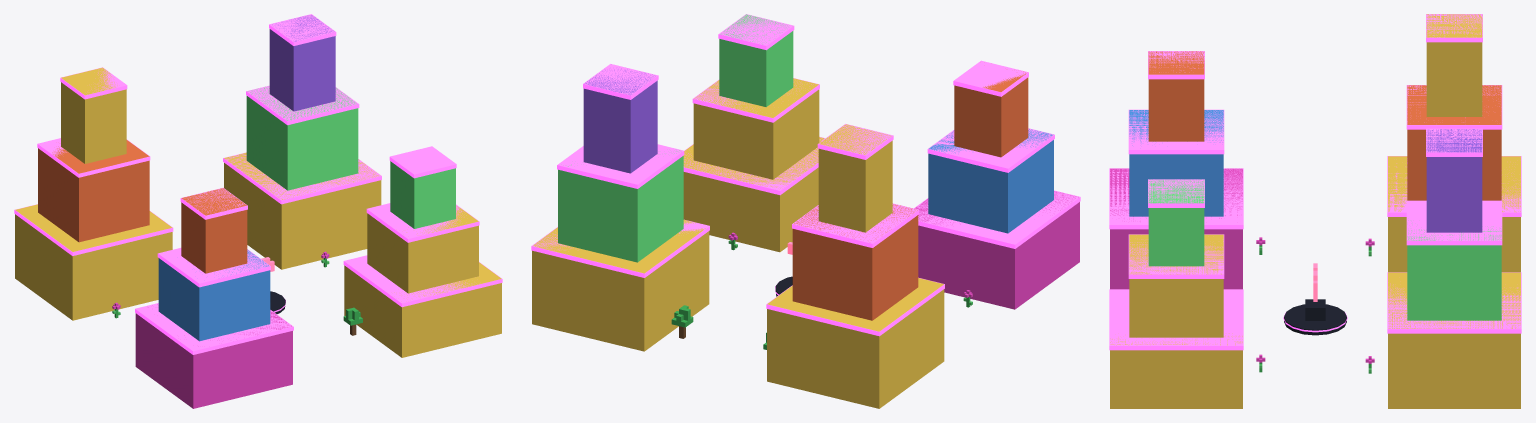
3 views of the same model, side by side, from view 1: azimuth 30°, elevation 25°; view 2: azimuth 150°, elevation 25°; view 3: azimuth 270°, elevation 25° (orthographic). The views are drawn at different scales.
Parts seen in each view (by area): view 1: district_city_pixel.lod1; view 2: district_city_pixel.lod1; view 3: district_city_pixel.lod1.
Boxes of the visible parts, x1,y1,x2,y2 form: district_city_pixel.lod1: [14, 14, 502, 408]; district_city_pixel.lod1: [531, 14, 1080, 408]; district_city_pixel.lod1: [1109, 14, 1521, 408].
Size of the model in its own units: 34.1 by 21.93 by 34.1.
